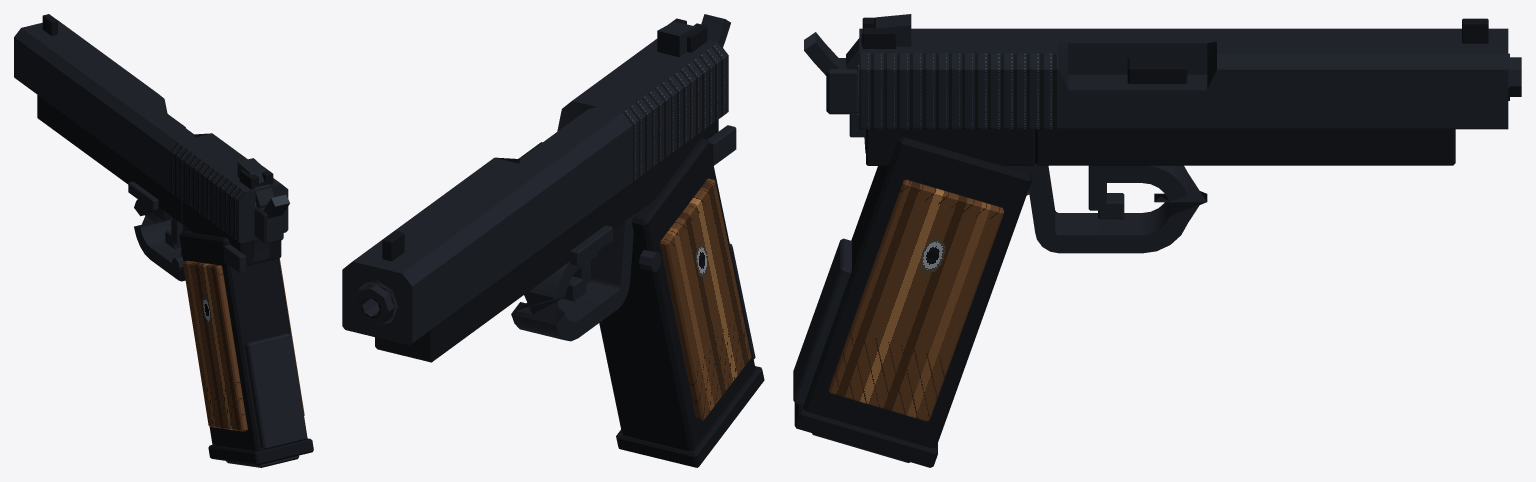
Rendered from pistol_1911_ps2.glb.
3 views of the same model, side by side, from view 1: azimuth 30°, elevation 25°; view 2: azimuth 150°, elevation 25°; view 3: azimuth 270°, elevation 25° (orthographic). The views are drawn at different scales.
Parts seen in each view (by area): view 1: slide, grip, grip_panel_L, frame, trigger_guard, hammer, controls, sight_rear, trigger; view 2: slide, grip, grip_panel_L, frame, trigger_guard, controls, barrel, trigger, hammer, sight_front, sight_rear; view 3: slide, grip, grip_panel_R, frame, trigger_guard, hammer, barrel, trigger, sight_rear.
Boxes of the visible parts, box(x1,y1,x2,y2) form: slide: box(14, 20, 288, 243); grip: box(179, 158, 313, 465); grip_panel_L: box(183, 260, 247, 431); frame: box(37, 95, 281, 265); trigger_guard: box(134, 199, 189, 281); hammer: box(254, 194, 289, 243); controls: box(128, 181, 246, 273); sight_rear: box(239, 166, 273, 189); trigger: box(165, 217, 183, 248); slide: box(342, 39, 728, 345); grip: box(599, 21, 764, 467); grip_panel_L: box(660, 178, 751, 420); frame: box(375, 119, 718, 362); trigger_guard: box(511, 214, 634, 341); controls: box(570, 125, 736, 271); barrel: box(353, 142, 542, 325); trigger: box(562, 260, 590, 301); hammer: box(701, 14, 730, 47); sight_front: box(382, 230, 404, 261); sight_rear: box(668, 18, 707, 52); slide: box(859, 28, 1508, 129); grip: box(793, 14, 1031, 467); grip_panel_R: box(829, 179, 1003, 421); frame: box(866, 129, 1455, 165); trigger_guard: box(1025, 164, 1207, 253); hammer: box(804, 32, 859, 114); barrel: box(1127, 53, 1521, 100); trigger: box(1088, 165, 1124, 219); sight_rear: box(862, 17, 895, 48).
Size of the model in its own units: 0.0316 by 0.1435 by 0.22.
Materials: 1 (1 with a texture image).
